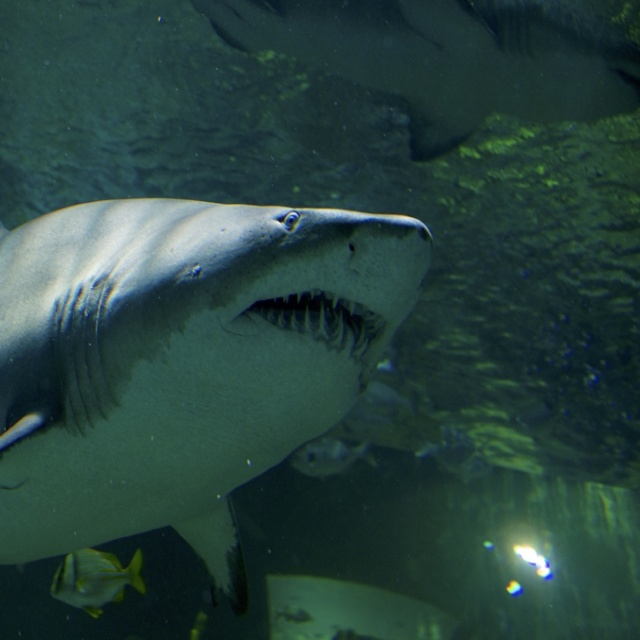Fish: (48, 549, 147, 617), (288, 433, 378, 478)
